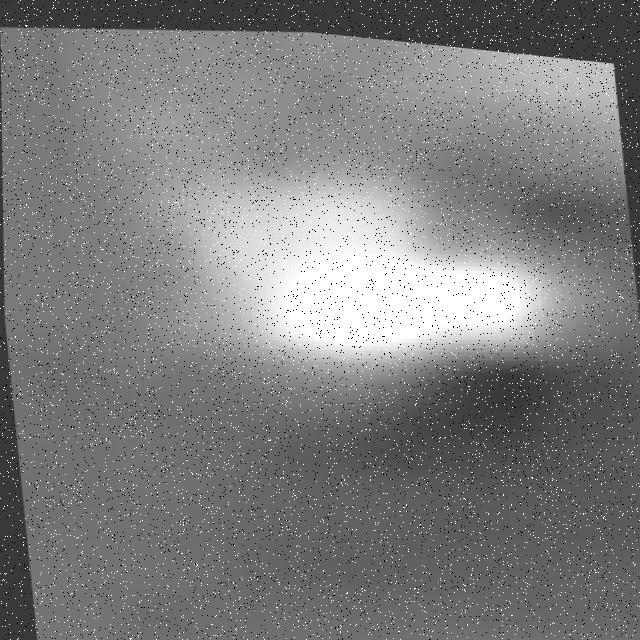person: (111, 113, 631, 446)
